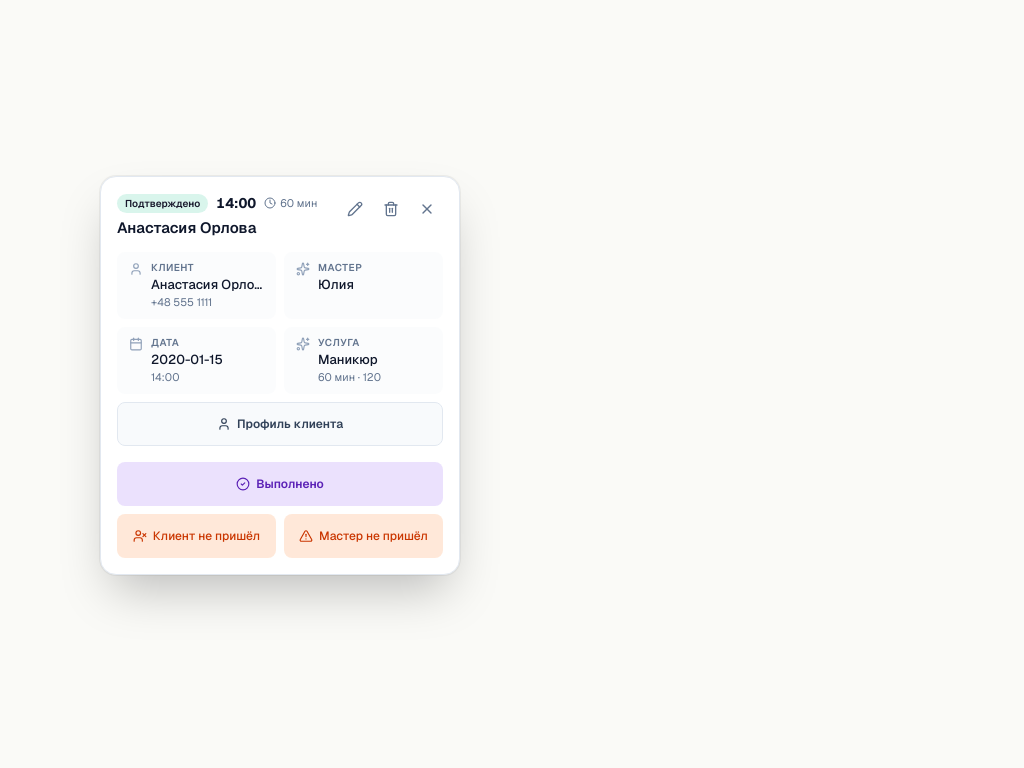
Test: AppointmentDetailPanel › presentation (anchored popover vs centered modal) › escalates to the centered edit modal when the pencil is clicked
The image size is (1024, 768).
Step 1. Click the button with test id "panel-edit" → (355, 209), box [339,193,371,225]
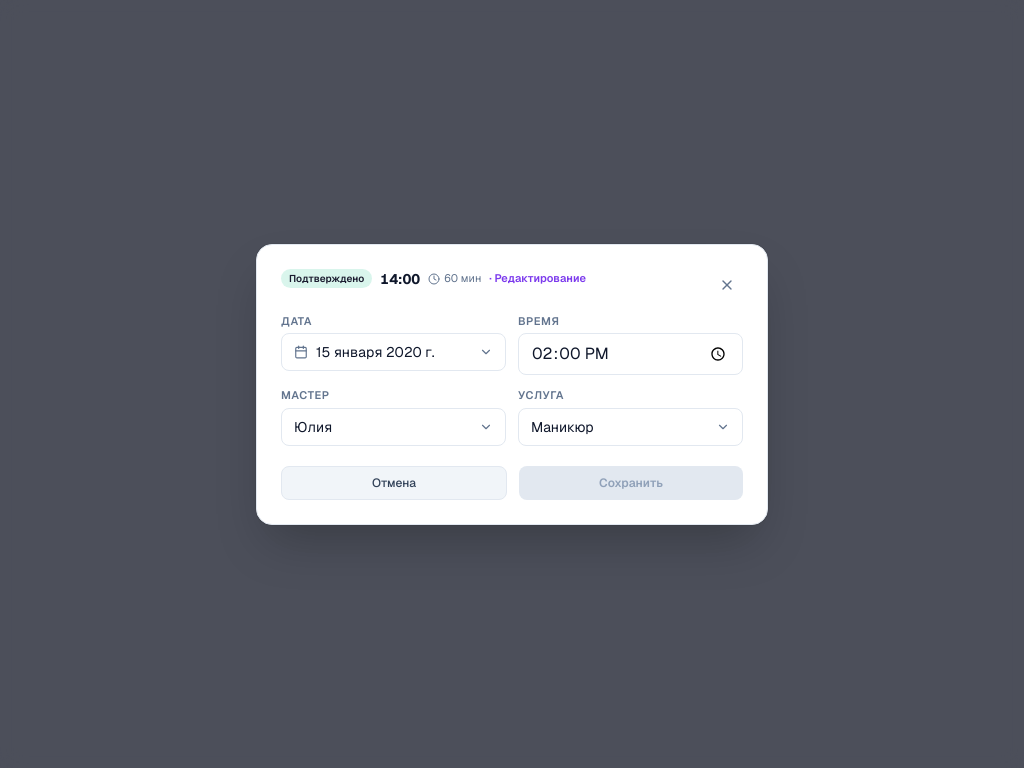
Now the dialog with test id "appointment-detail-edit-modal" is shown, box [256,244,768,524]
Now the element with test id "appointment-detail-popover" is gone
Now the element with test id "panel-edit-date" is shown, box [281,333,506,371]
